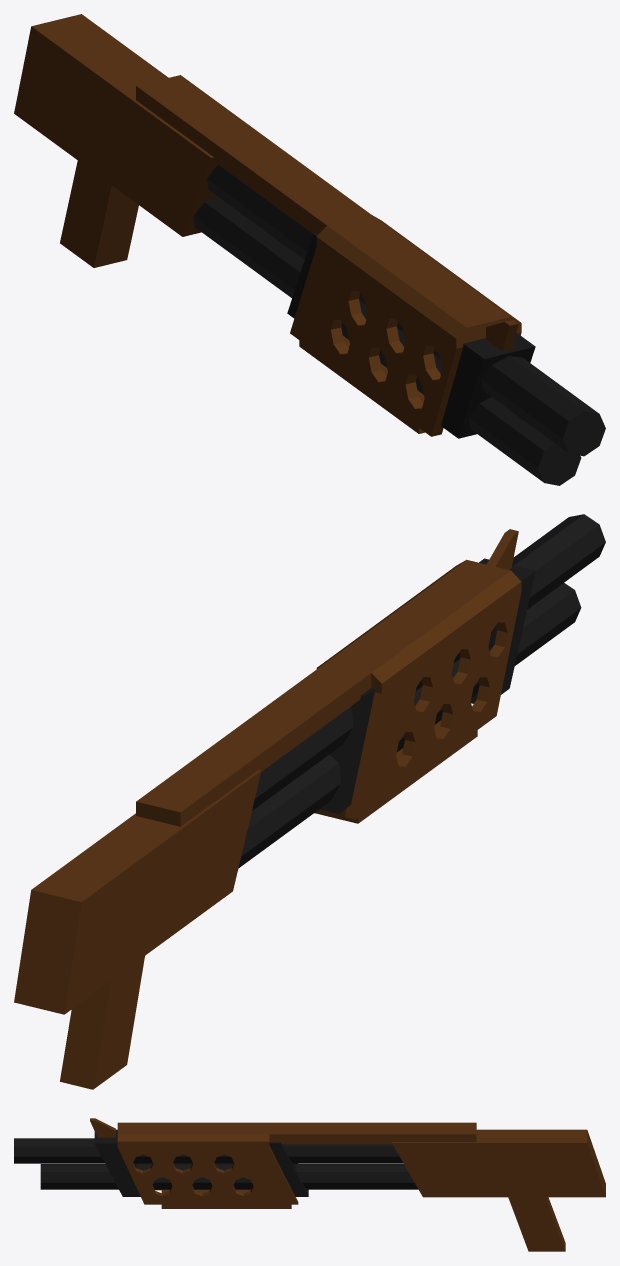
Rendered from Shotgun.glb.
The picture shows the model from 3 angles, top to bottom: view 1: azimuth 30°, elevation 25°; view 2: azimuth 150°, elevation 25°; view 3: azimuth 270°, elevation 25°; orthographic projection. The views are drawn at different scales.
Parts seen in each view (by area): view 1: Cylinder; view 2: Cylinder; view 3: Cylinder.
Boxes of the visible parts, left/top/right/bottom form: Cylinder: left=14, top=14, right=605, bottom=485; Cylinder: left=14, top=514, right=605, bottom=1089; Cylinder: left=14, top=1118, right=605, bottom=1251.
Bounding box in the file's own units: 0.054 × 0.1858 × 0.7809.
